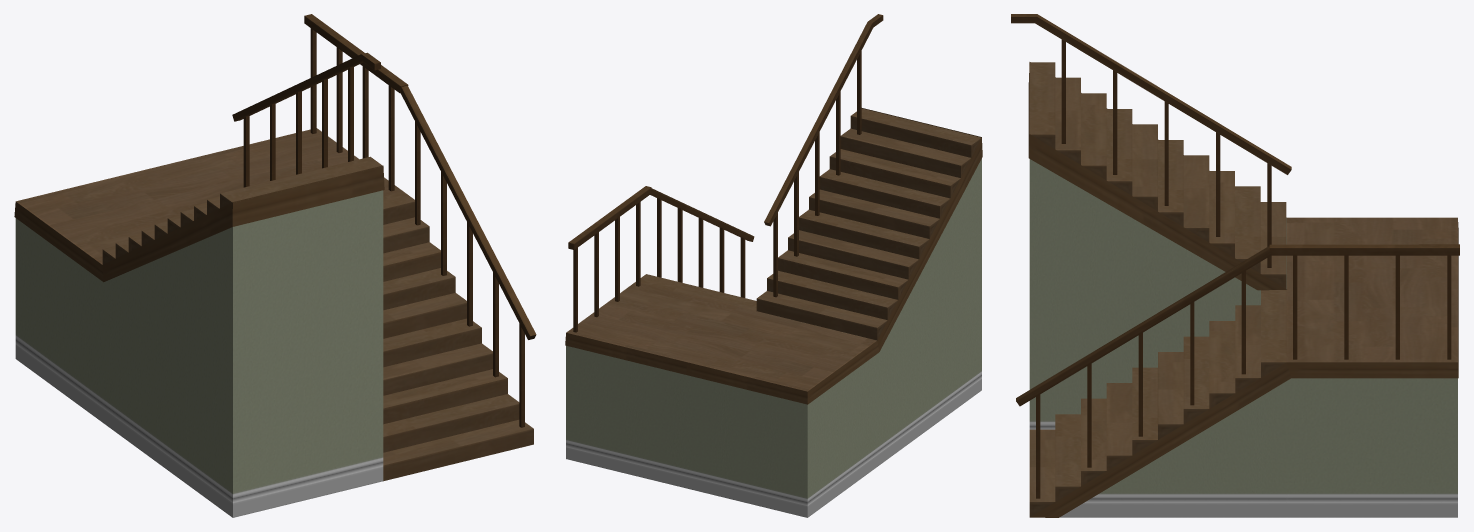
Rendered from stairs3.fbx.
3 views of the same model, side by side, from view 1: azimuth 30°, elevation 25°; view 2: azimuth 150°, elevation 25°; view 3: azimuth 270°, elevation 25° (orthographic). The views are drawn at different scales.
Parts seen in each view (by area): view 1: stairs_wide_right; view 2: stairs_wide_right; view 3: stairs_wide_right.
Part boxes in pixels (<box>): stairs_wide_right: <box>14,14,536,517</box>; stairs_wide_right: <box>565,14,982,517</box>; stairs_wide_right: <box>1011,14,1459,517</box>.
Size of the model in its own units: 402 by 544 by 524.
